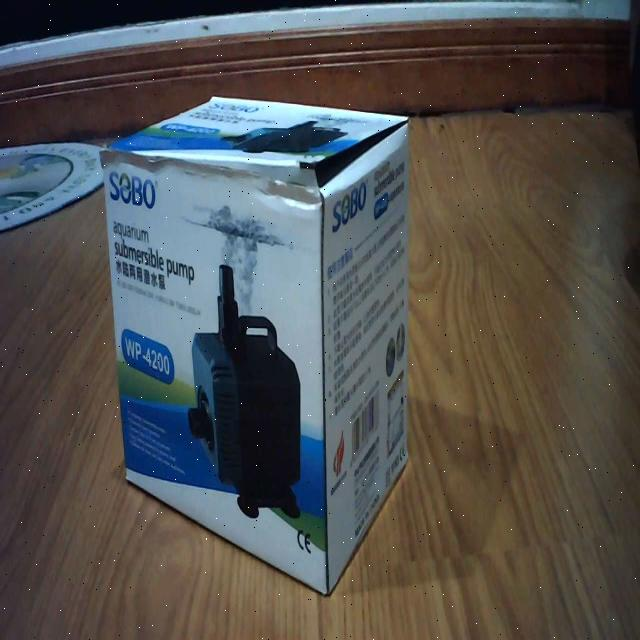SOBO_WP_4200: (100, 92, 410, 598)
